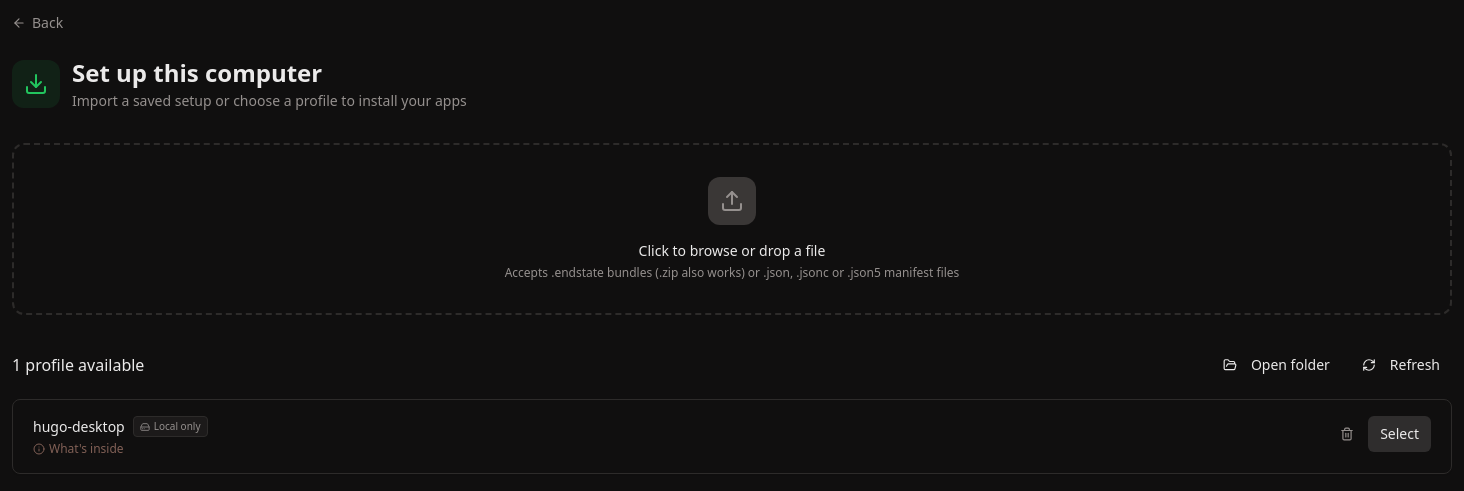
SetupFlow dry-run disclosure › reports completed setup for a real apply
The width and height of the screenshot is (1464, 491).
Click the button "hugo-desktop Local only What's inside Select" at (79, 426), box [12,399,1452,474]
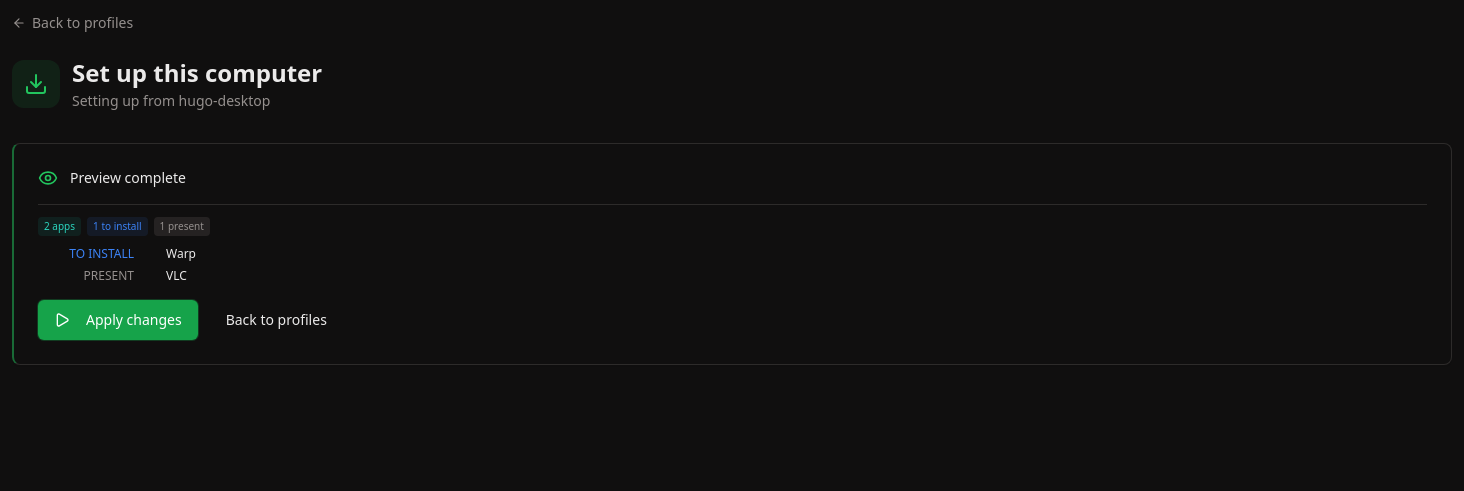
Now the button with test id "setup-flow-apply" is shown
Click the button with test id "setup-flow-apply" at (118, 320), box [38,300,198,340]
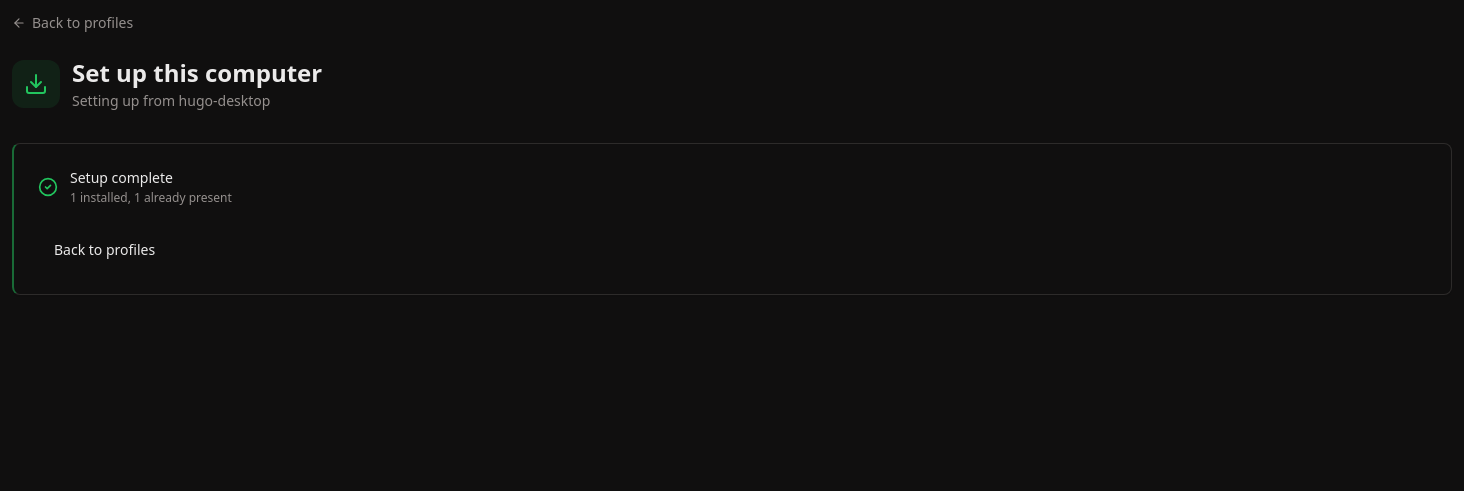
Now the text "Setup complete" is shown, box [70,168,173,187]
